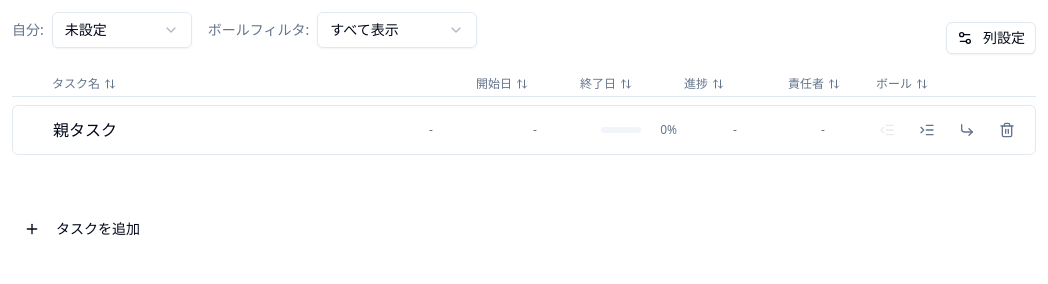
Test: TaskList › サブタスク追加のインライン入力 › Enterキーでサブタスクが追加される
Click the button named "サブタスクを追加": point(967, 130) [951,114,983,146]
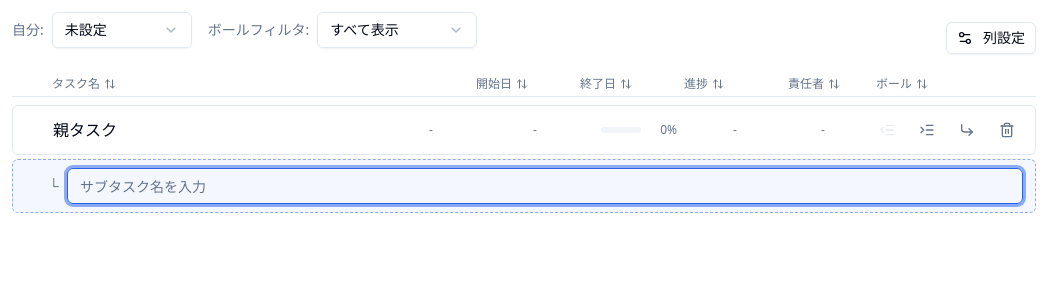
In the field with placeholder "サブタスク名を入力": point(545, 186) [67,168,1023,204], type "新しいサブタスク"
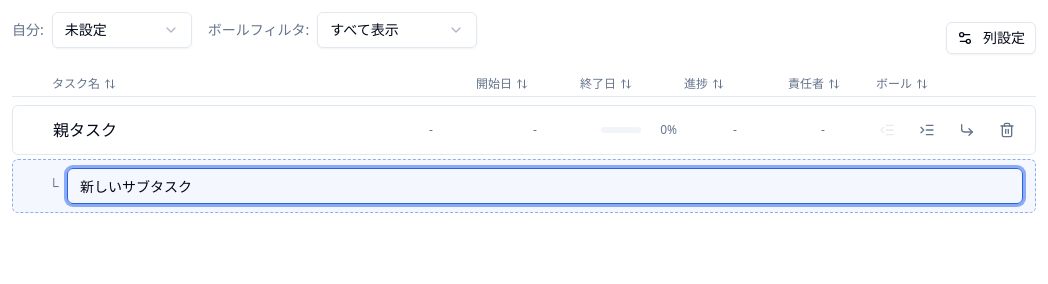
Press Enter
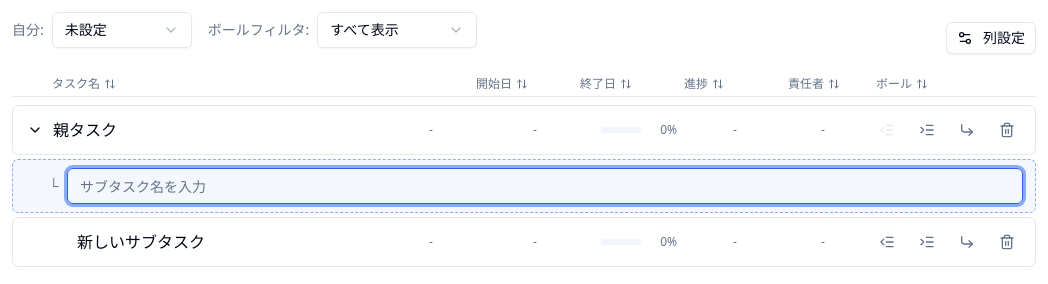
Result: the text "新しいサブタスク" is shown at [77,231,205,253]
